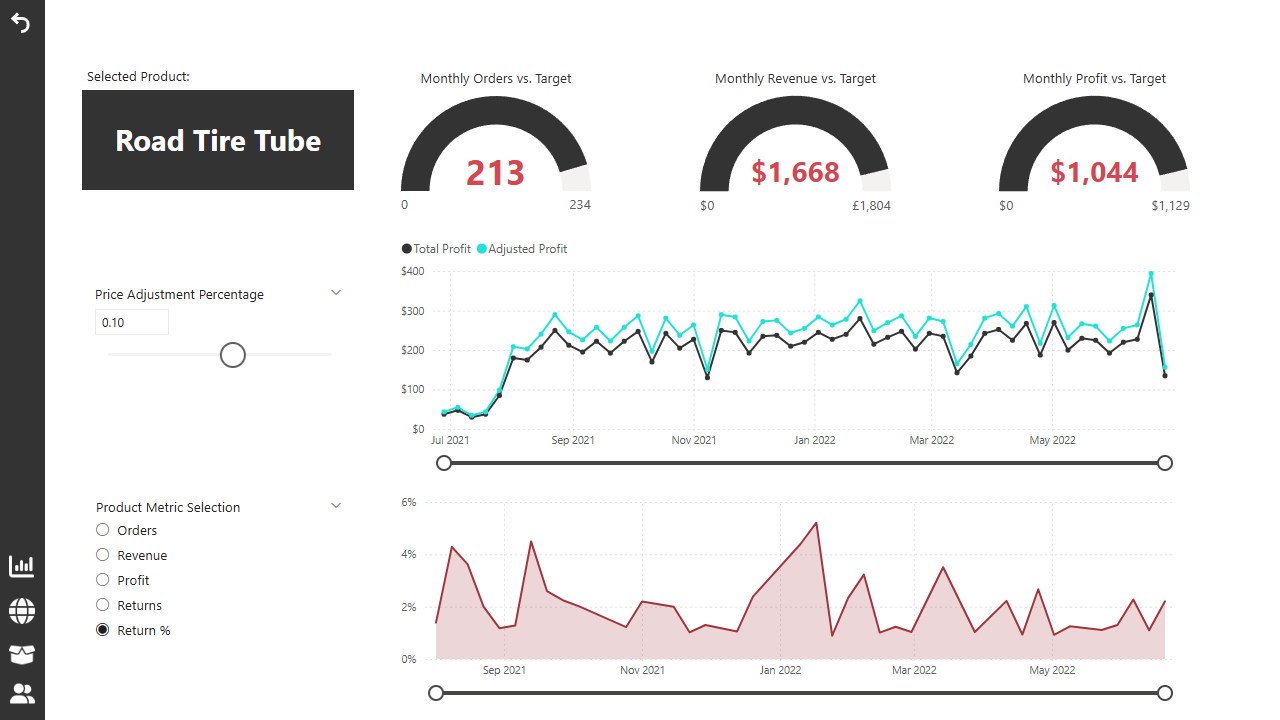

Layout of this report page (visuals, bound fields, positions):
{"tool":"powerbi","page":{"name":"Product Detail","canvas":[1280,720],"ordinal":2},"visuals":[{"type":"shape","title":"Left Nav Background","box":[0,0,45,720],"z":0},{"type":"actionButton","box":[5.2,548,33.2,35.9],"z":0,"group":"g1"},{"type":"gauge","title":"Monthly Orders vs. Target","fields":{"Y":["Measures Table.Total Orders"],"MaxValue":["Measures Table.Order Target"]},"box":[395.8,69,200.6,159.4],"z":1000},{"type":"actionButton","box":[5.2,591.7,33.6,38.5],"z":1000,"group":"g1"},{"type":"gauge","title":"Monthly Revenue vs. Target","fields":{"Y":["Measures Table.Total Revenue"],"MaxValue":["Measures Table.Revenue Target"]},"box":[694.9,69,200.6,159.4],"z":2000},{"type":"actionButton","box":[5.2,634.3,33.6,40.6],"z":2000,"group":"g1"},{"type":"gauge","title":"Monthly Profit vs. Target","fields":{"Y":["Measures Table.Total Profit"],"MaxValue":["Measures Table.Profit Target"]},"box":[994,69,200.6,159.4],"z":3000},{"type":"actionButton","box":[6.2,677,33.6,33.3],"z":3000,"group":"g1"},{"type":"lineChart","title":"Profit Trending","fields":{"Category":["Calendar Lookup.Date Hierarchy.Start of Year","Calendar Lookup.Date Hierarchy.Start of Month","Calendar Lookup.Date Hierarchy.Start of Week","Calendar Lookup.Date Hierarchy.Date"],"Y":["Measures Table.Total Profit","Measures Table.Adjusted Profit"]},"box":[395.9,228.6,798.5,245.1],"z":4000},{"type":"areaChart","title":"Returns Trending","fields":{"Y":["Measures Table.Return Rate"],"Category":["Calendar Lookup.Date Hierarchy.Start of Year","Calendar Lookup.Date Hierarchy.Start of Month","Calendar Lookup.Date Hierarchy.Start of Week","Calendar Lookup.Date Hierarchy.Date"]},"box":[395.9,488.3,798.5,215.9],"z":5000},{"type":"card","fields":{"Values":["Min(Product Lookup.ProductName)"]},"box":[82.4,89.6,271.6,100.5],"z":6000},{"type":"textbox","box":[82.4,62.5,126.7,27.2],"z":7000},{"type":"slicer","fields":{"Values":["Price Adjustment Percentage.Price Adjustment Percentage"]},"box":[82.4,280.3,271.3,154.9],"z":8000},{"type":"actionButton","box":[5.8,7.8,32.1,29.2],"z":9000},{"type":"slicer","fields":{"Values":["Product Metric Selection 2.Product Metric Selection"]},"box":[82.7,493.1,271.4,167.3],"z":10000},{"type":"group","id":"g1","title":"Navigation Buttons","box":[5.2,548,34.6,162.3],"z":11000}]}

Visuals, with their boxes on the page's 1280x720 design canvas (x1, y1, x2, y2). These are canvas units, not pixel positions in the 1280x720 screenshot, which may show the page scaled, cropped or inside an application window:
"Left Nav Background" shape: 0, 0, 45, 720
actionButton: 5, 548, 38, 584
"Monthly Orders vs. Target" gauge: 396, 69, 596, 228
actionButton: 5, 592, 39, 630
"Monthly Revenue vs. Target" gauge: 695, 69, 896, 228
actionButton: 5, 634, 39, 675
"Monthly Profit vs. Target" gauge: 994, 69, 1195, 228
actionButton: 6, 677, 40, 710
"Profit Trending" lineChart: 396, 229, 1194, 474
"Returns Trending" areaChart: 396, 488, 1194, 704
card - Min(Product Lookup.ProductName): 82, 90, 354, 190
textbox: 82, 62, 209, 90
slicer - Price Adjustment Percentage.Price Adjustment Percentage: 82, 280, 354, 435
actionButton: 6, 8, 38, 37
slicer - Product Metric Selection 2.Product Metric Selection: 83, 493, 354, 660
"Navigation Buttons" group: 5, 548, 40, 710
